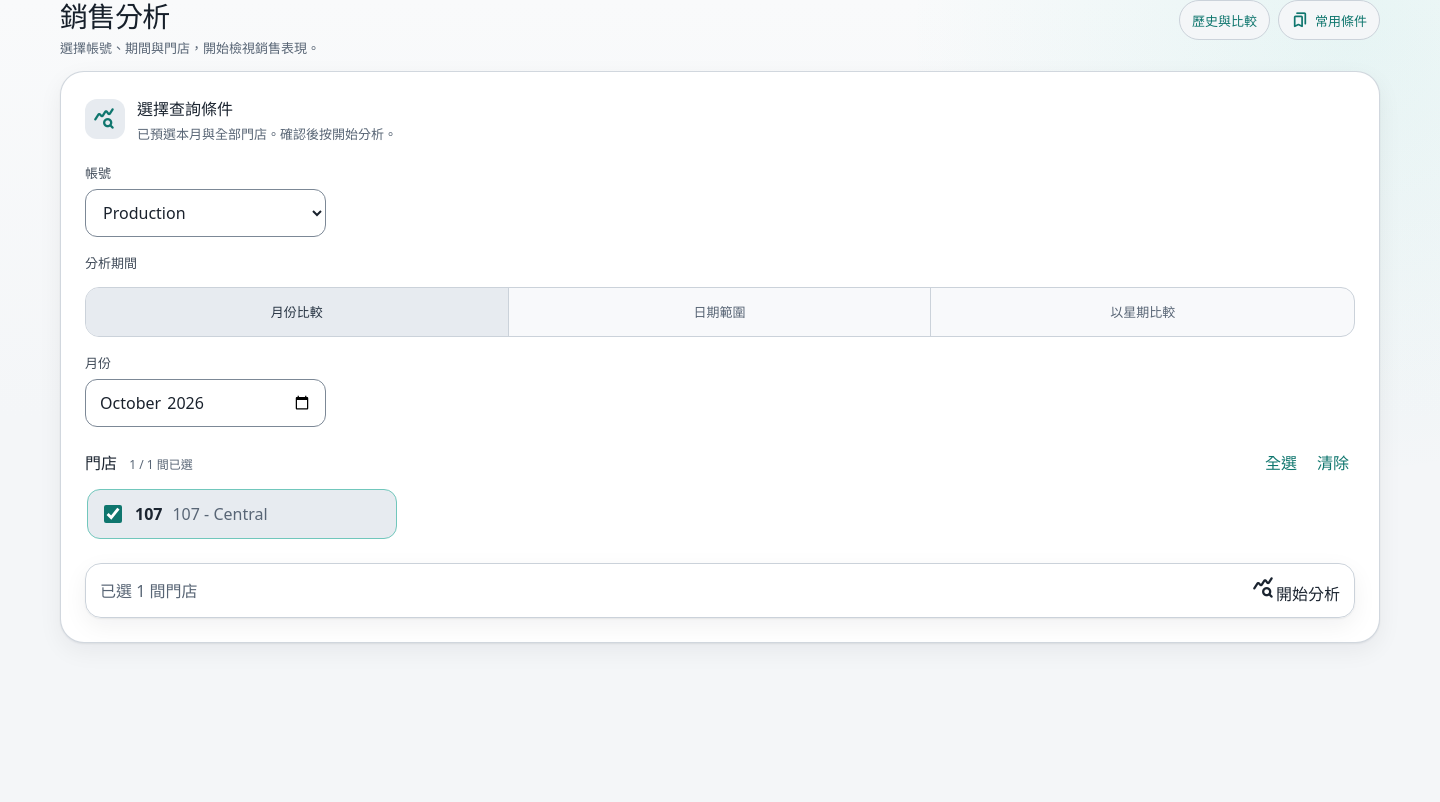
Test case: sales analysis page › keeps the export dialog scrollable with stable actions and optional sections
This screenshot has width=1440, height=802.
Expected: the text "107 - Central" is shown, [172,503,268,525]
Click the text "開始分析". click: (1296,590)
box: [1252,576,1340,605]
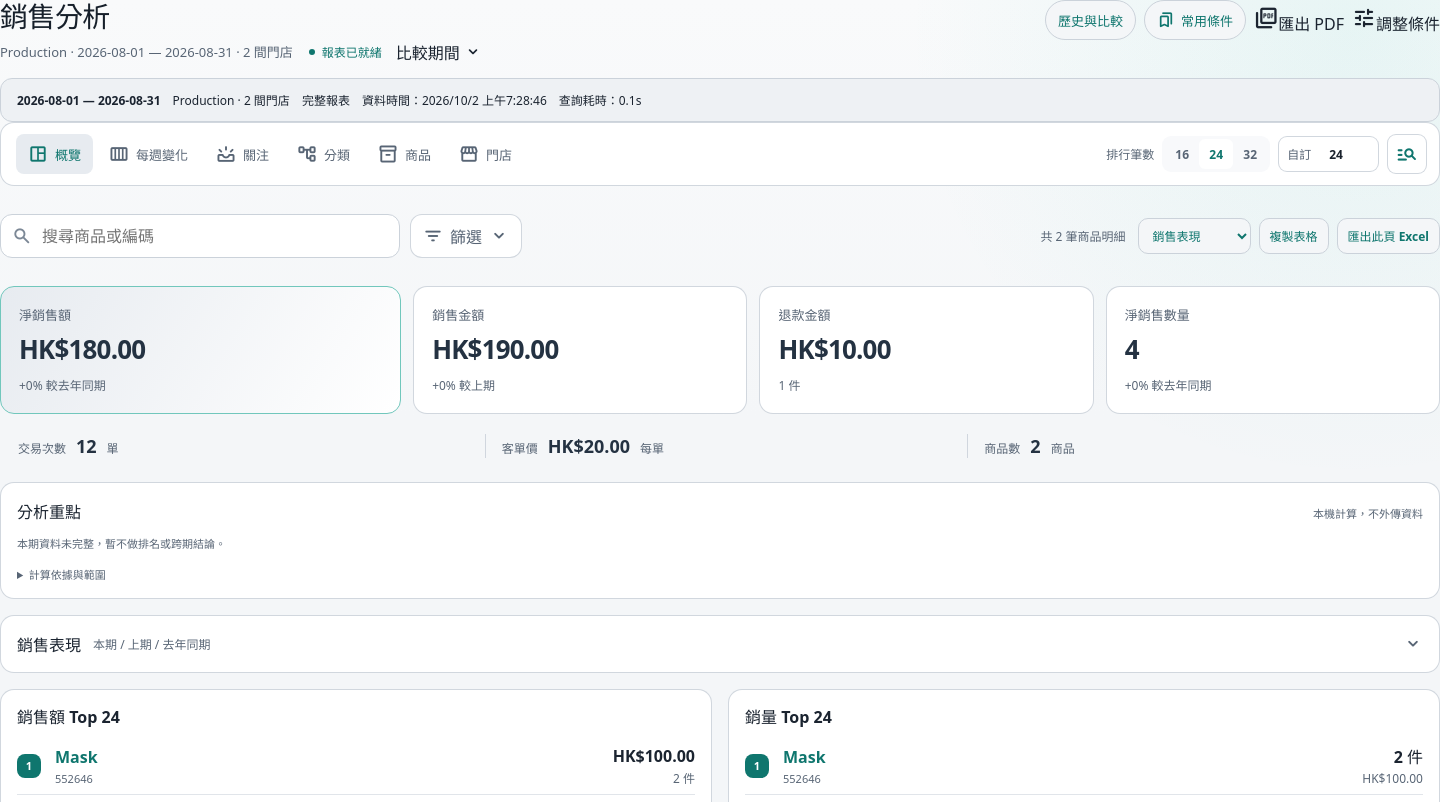
Expected: the heading "銷售額 Top 24" is shown, [17,704,120,728]
Click the text "匯出 PDF". click: (1299,20)
box: [1254,6,1344,34]
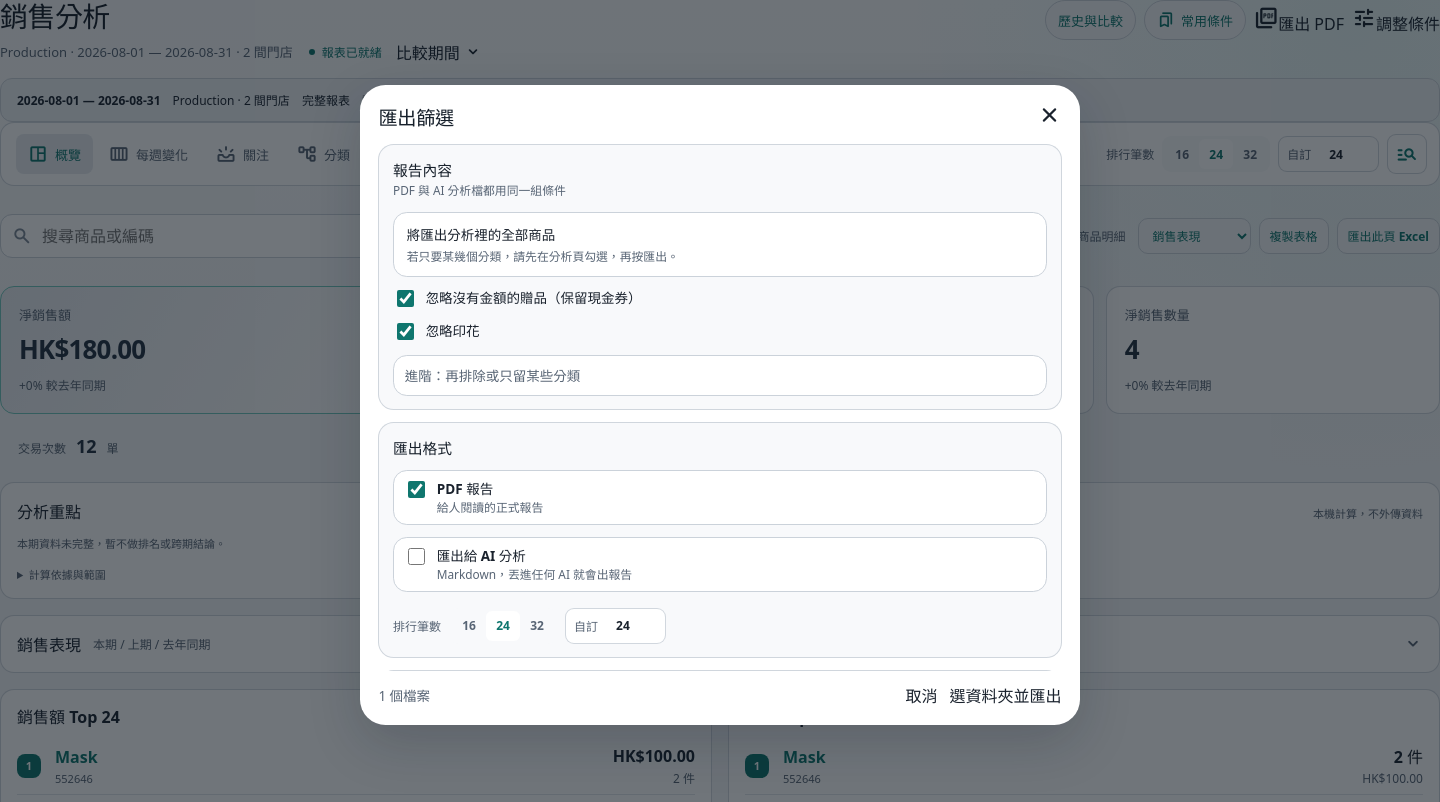
Expected: the heading "匯出篩選" is shown, [378,106,454,129]
Expected: the form with class "export-dialog-body" is shown, [378,144,1062,707]
Expected: the element with class "export-dialog-grid" is shown, [378,144,1062,671]
Click the text "取消". click: (922,695)
box: [906,683,938,707]
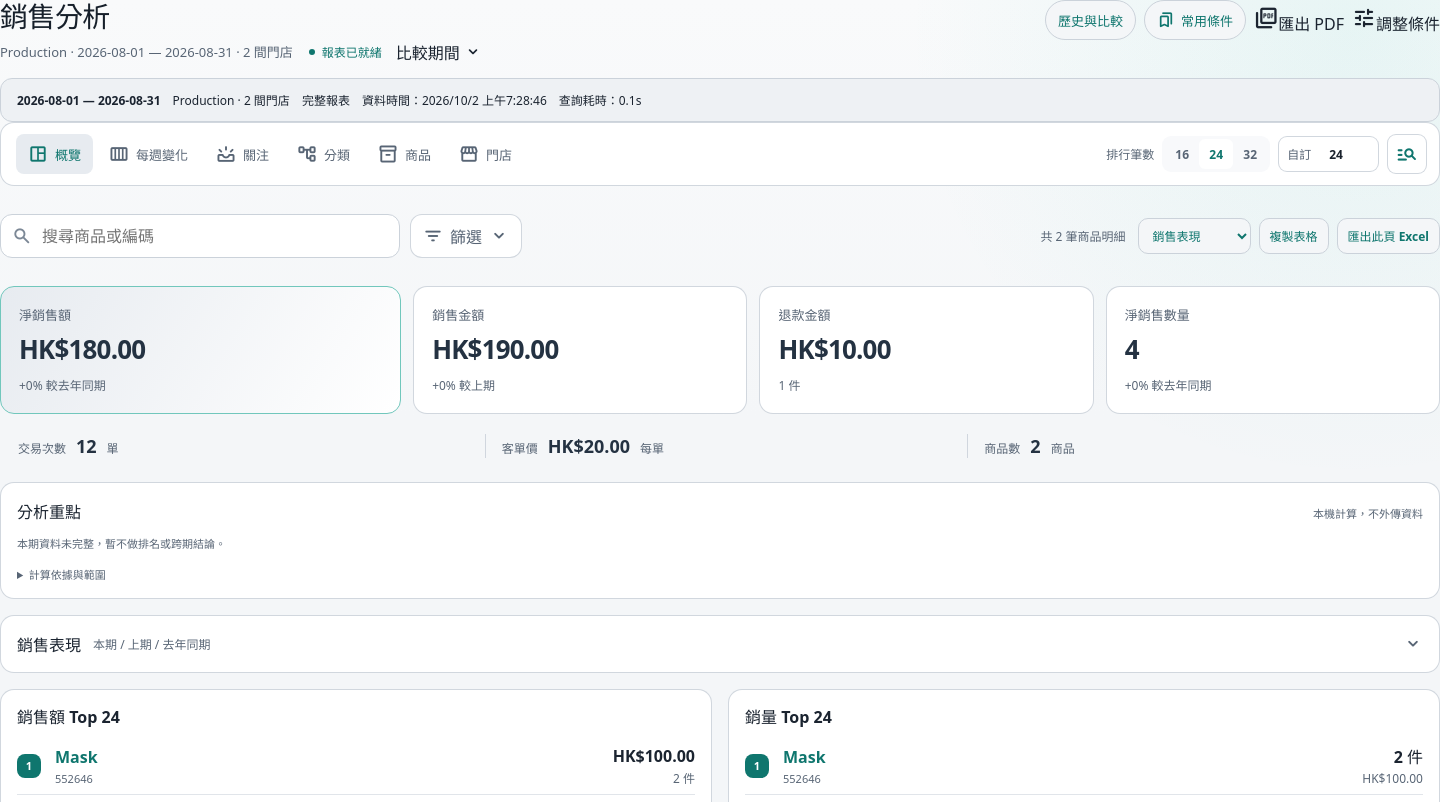
Expected: the heading "匯出篩選" is gone
